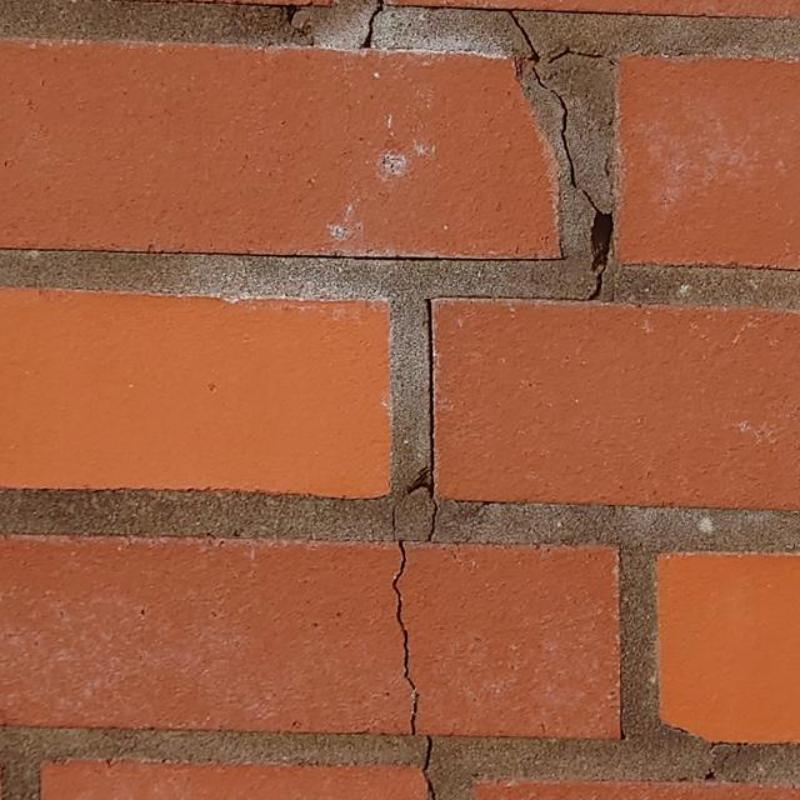crack: (392, 297, 435, 539), (391, 541, 419, 734), (582, 189, 614, 300), (550, 88, 578, 189), (505, 12, 541, 64), (546, 45, 608, 65), (359, 0, 384, 49), (421, 735, 438, 800), (421, 500, 439, 542), (530, 66, 549, 90)
